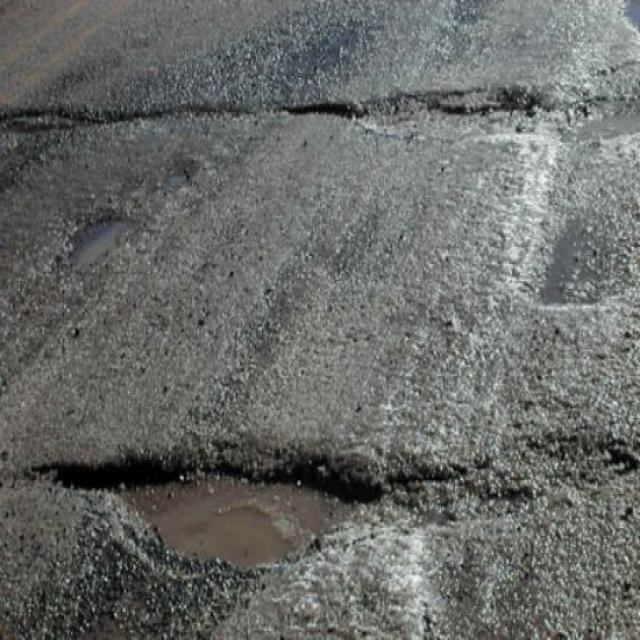Pothole: (24, 432, 518, 570)
